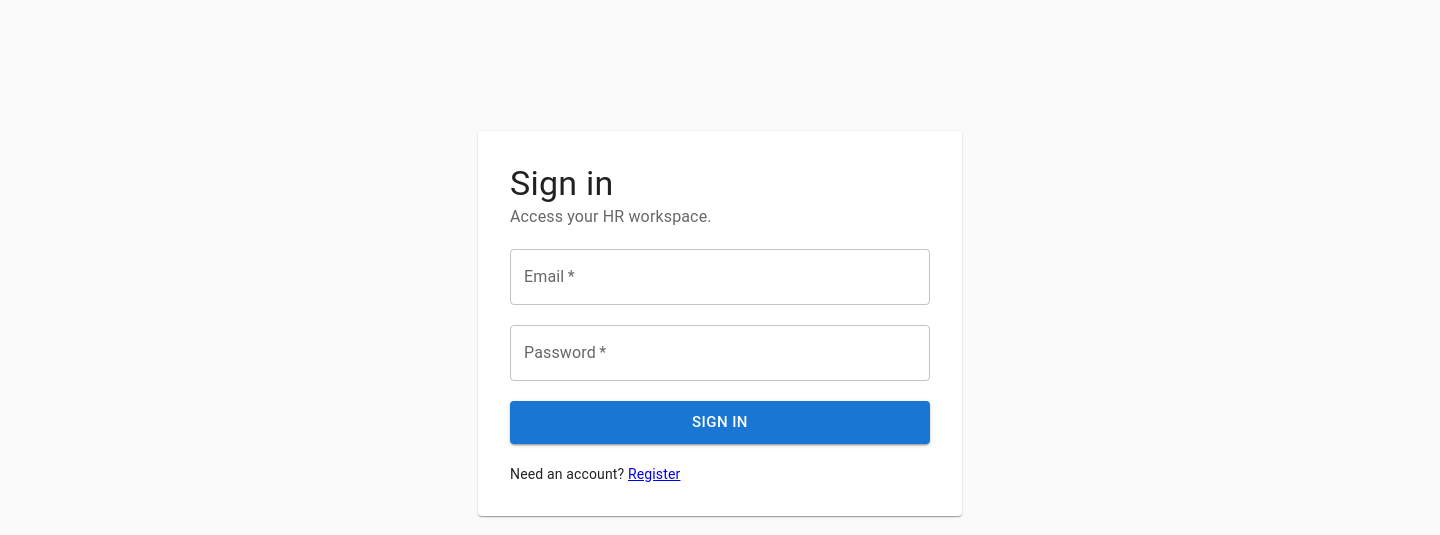
login redirects to the authenticated home page on success
This screenshot has width=1440, height=535.
Step 1. Type "hr@example.com" into the field labelled "Email *" → (720, 277), box top-left (510, 249), bottom-right (930, 305)
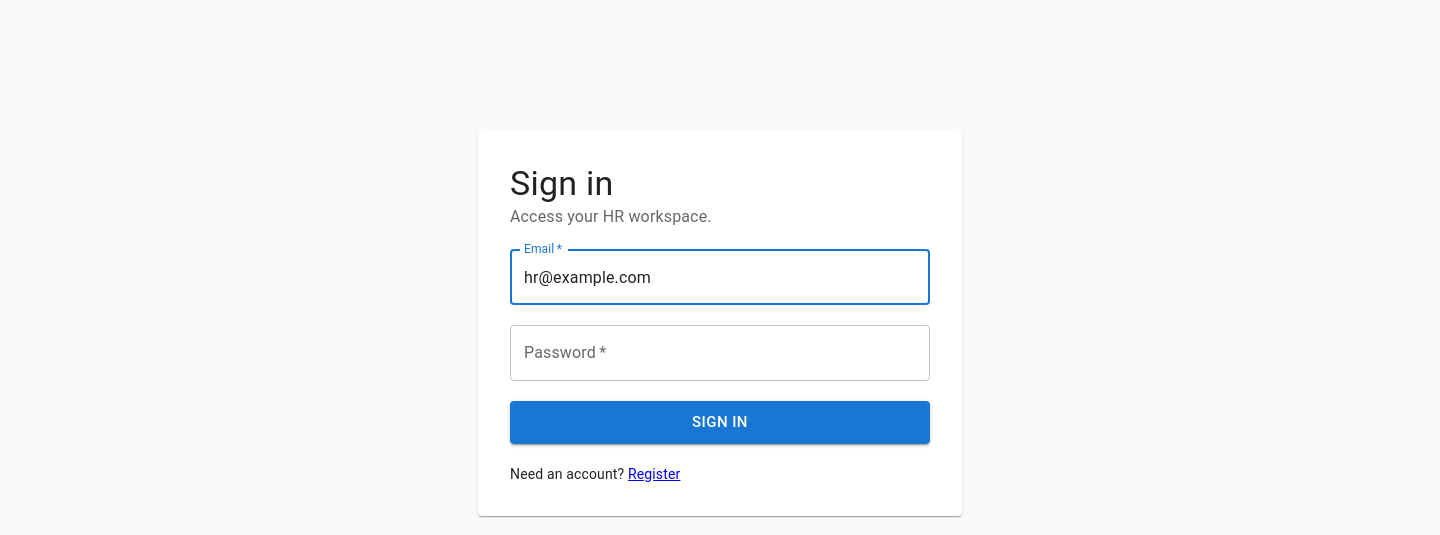
Step 2. Type "correct-password" into the password field labelled "Password *" → (720, 353), box top-left (510, 325), bottom-right (930, 381)
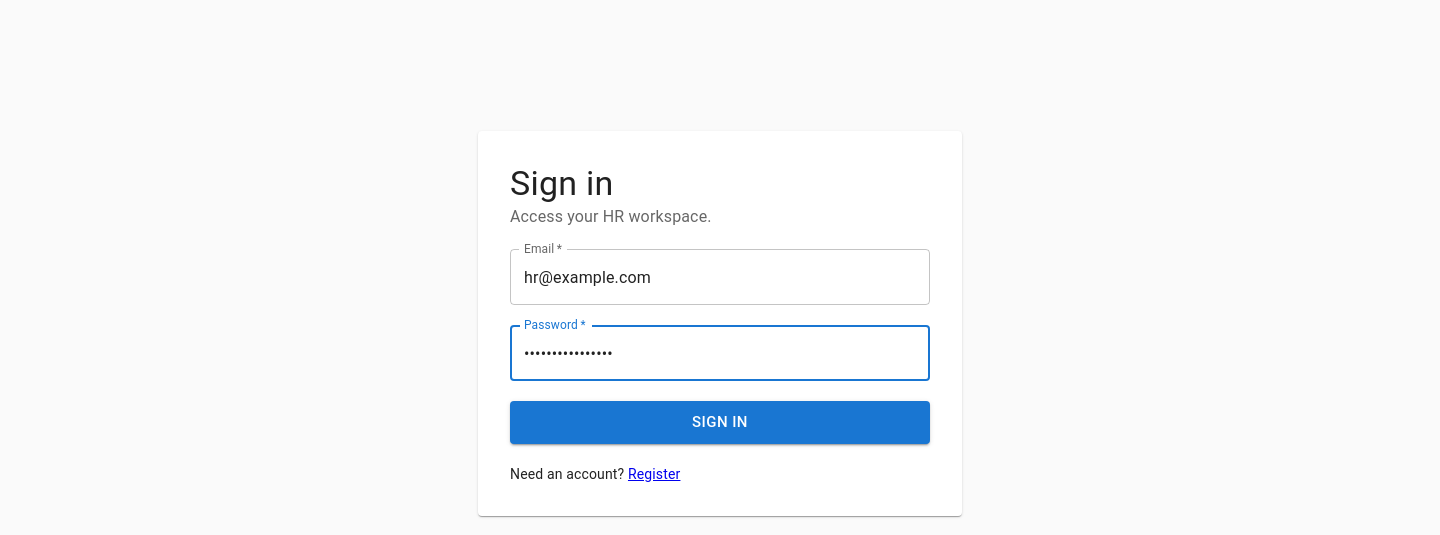
Step 3. Click the button "Sign in" → (720, 423), box top-left (510, 401), bottom-right (930, 444)
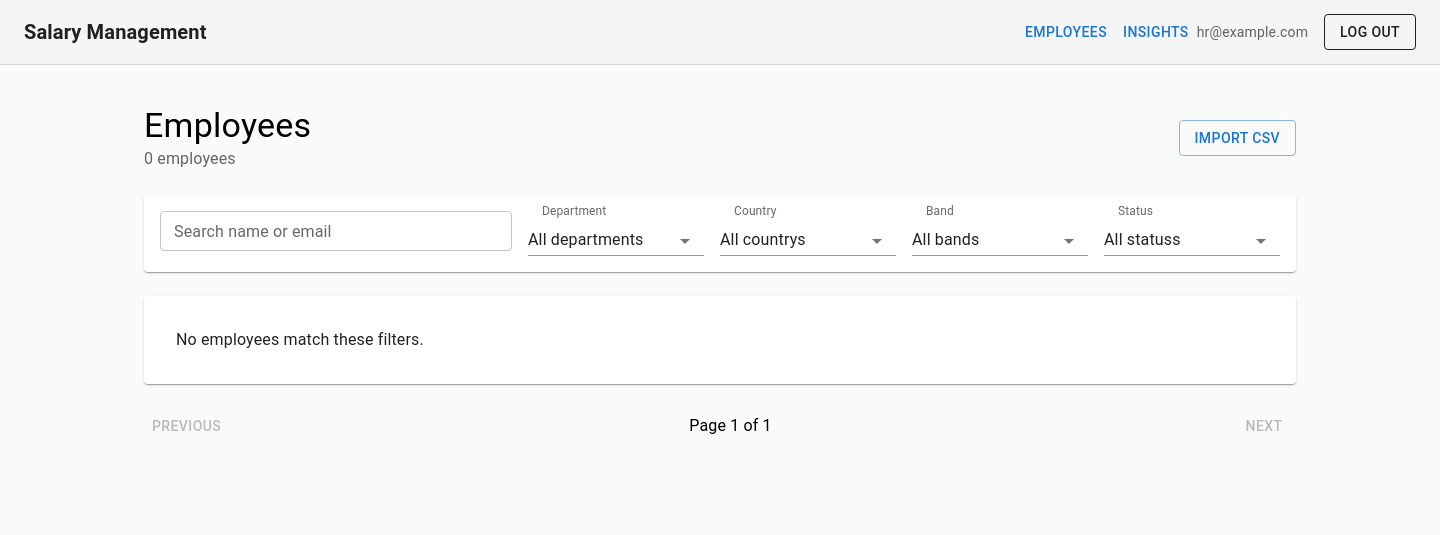
Expected: the heading "Employees" is shown, top-left (144, 105), bottom-right (311, 147)
